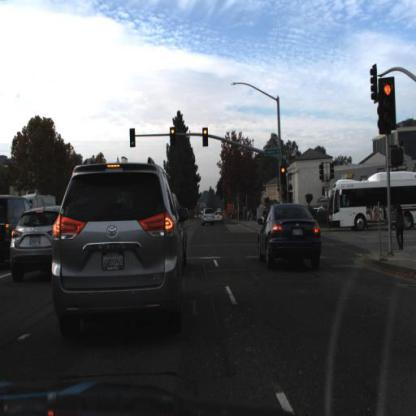car: (51, 159, 187, 335), (256, 200, 324, 273), (10, 204, 66, 279), (1, 191, 30, 260), (200, 205, 216, 229), (214, 210, 224, 226)
pedestrian: (394, 202, 406, 251), (261, 206, 269, 230), (262, 207, 268, 223)
trafficLight: (130, 128, 137, 149)
trafficLight-Red: (378, 74, 398, 140), (202, 126, 209, 147), (169, 128, 177, 146), (281, 165, 287, 183)
truck: (329, 172, 416, 233), (10, 192, 55, 228)
